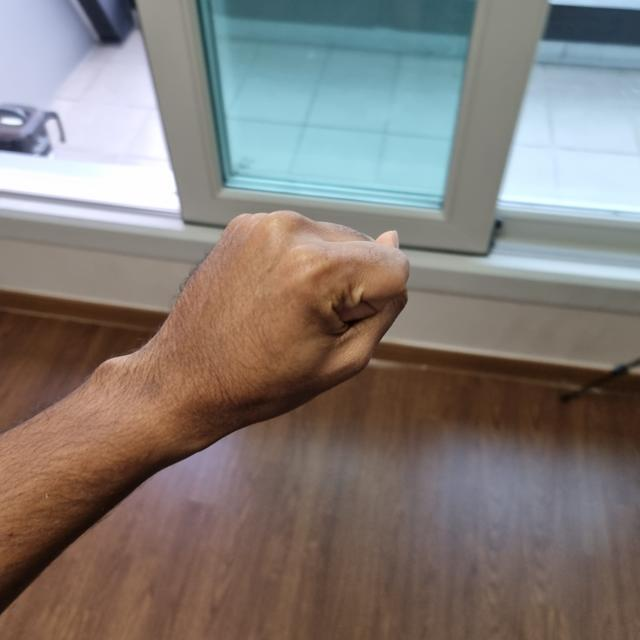Rock: (142, 211, 408, 423)
